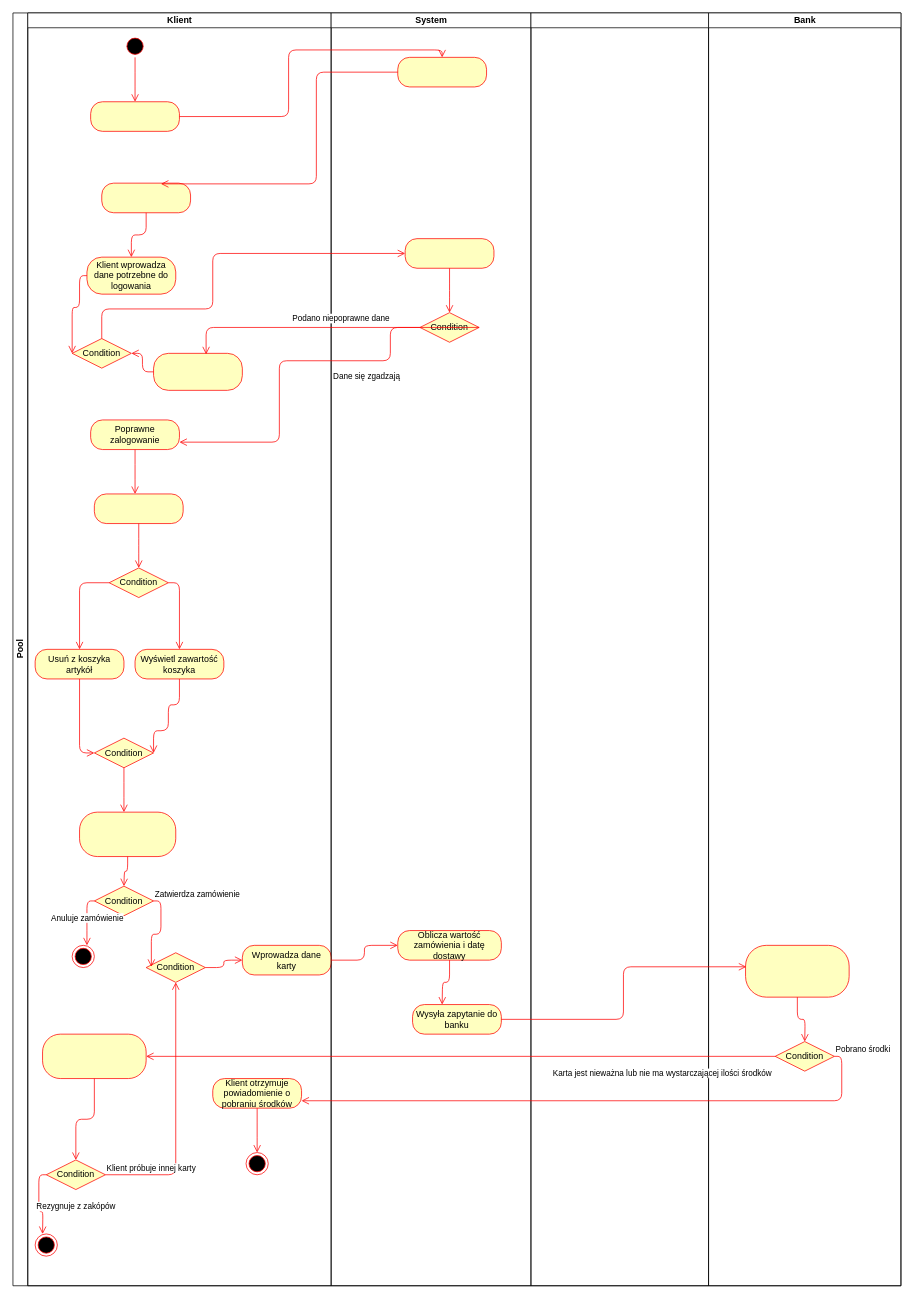
This 914x1299 diagram has some shape labels left out. The centre of each missing label's shape, as x and y in pixels:
Dodaj do koszyka: the point at 138,508
Klient ponownie wprowadza dane logowania: the point at 197,371
Klient rejestruje się: the point at 134,116
Nadaje uprawnienia klientowi: the point at 442,72
Odmowa: the point at 94,1056
Otrzymuje uprawnienia: the point at 146,197
Otrzymuje zapytanie w celu weryfikacji limitu oraz daty ważności karty: the point at 797,971
Przekształć zawartość koszyka w zamówienie: the point at 127,834
Sklep: the point at 619,649
System sprawdza poprawność danych: the point at 449,253
